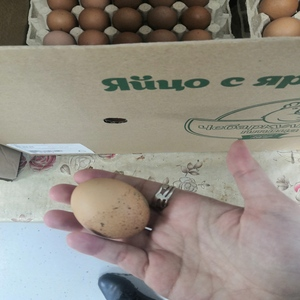brown egg: (70, 177, 151, 239)
